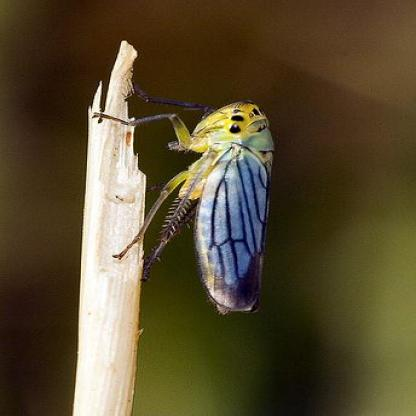Green-Leafhopper: (91, 89, 280, 323)
